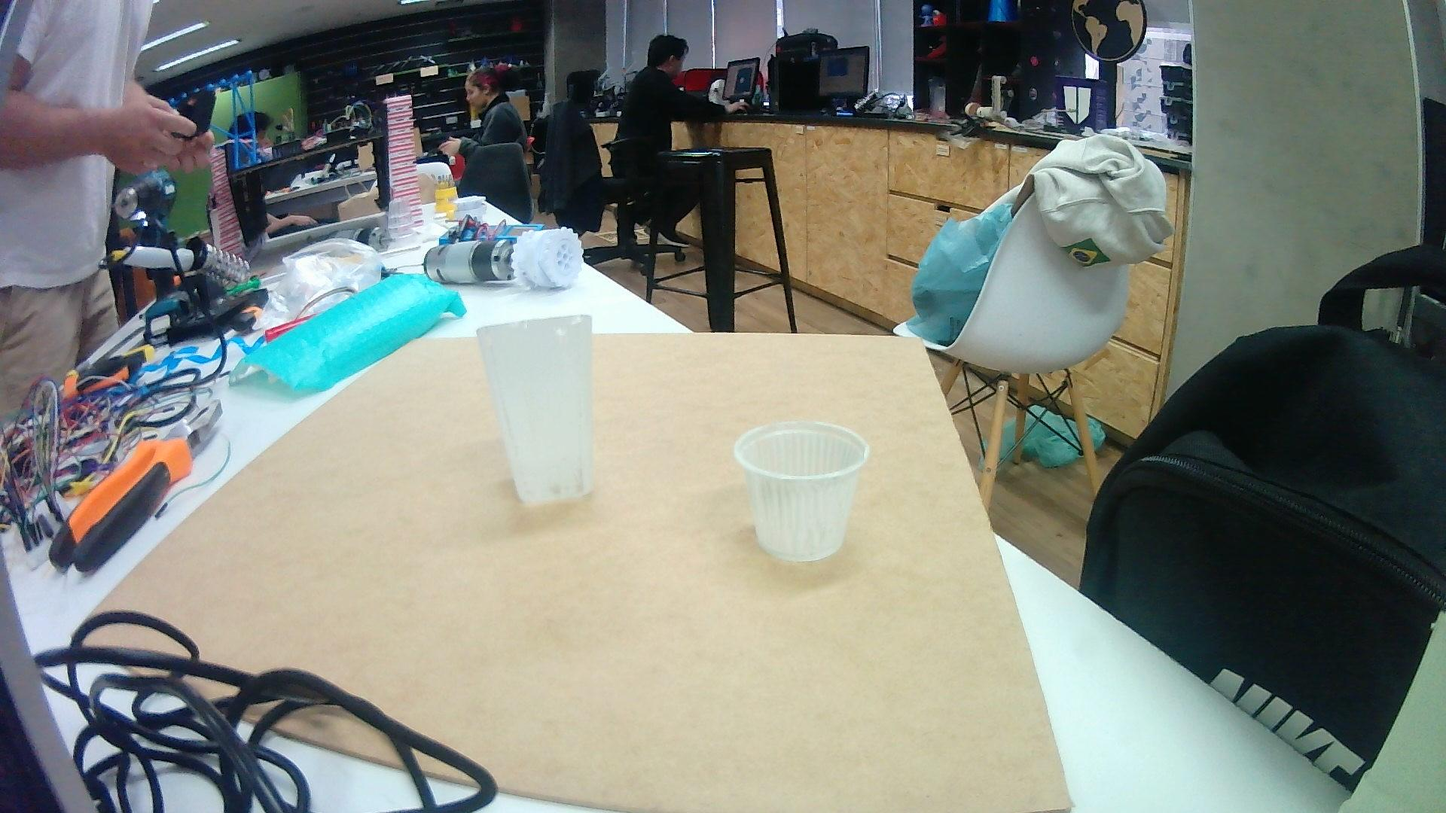erva_daninha: (476, 313, 596, 506)
planta: (733, 419, 871, 565)
